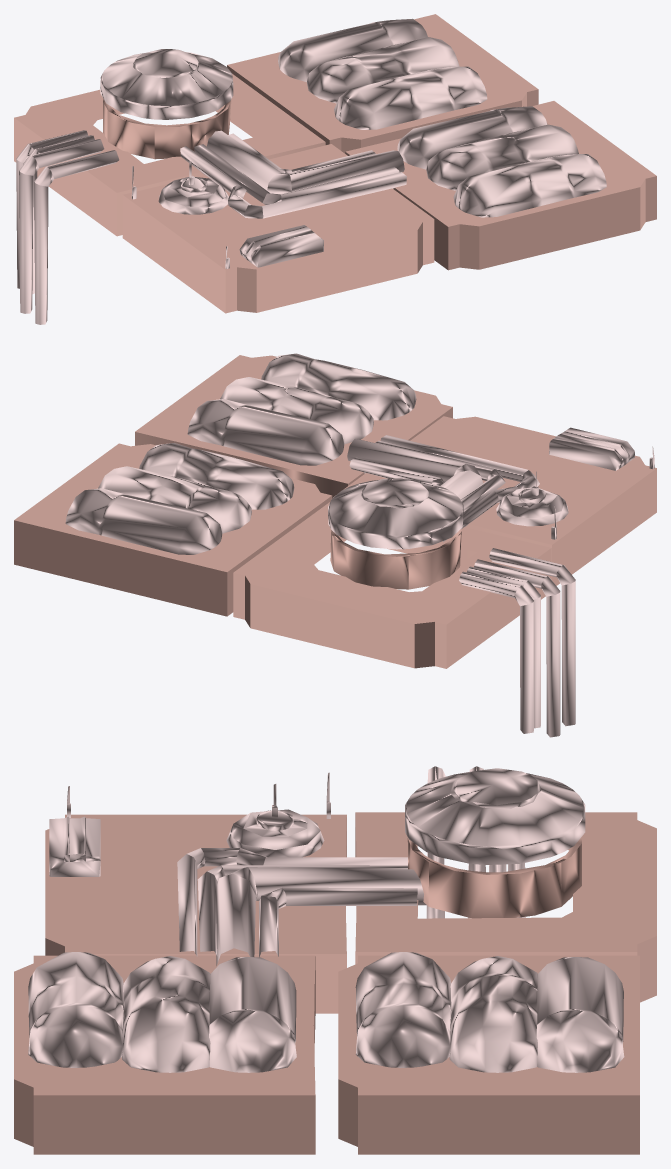
File: backdrop_top_b_lod1.glb
3 views of the same model, one above another, from view 1: azimuth 30°, elevation 25°; view 2: azimuth 150°, elevation 25°; view 3: azimuth 270°, elevation 25° (orthographic). The views are drawn at different scales.
Bounding box in the file's own units: 128 × 55.07 × 110.
